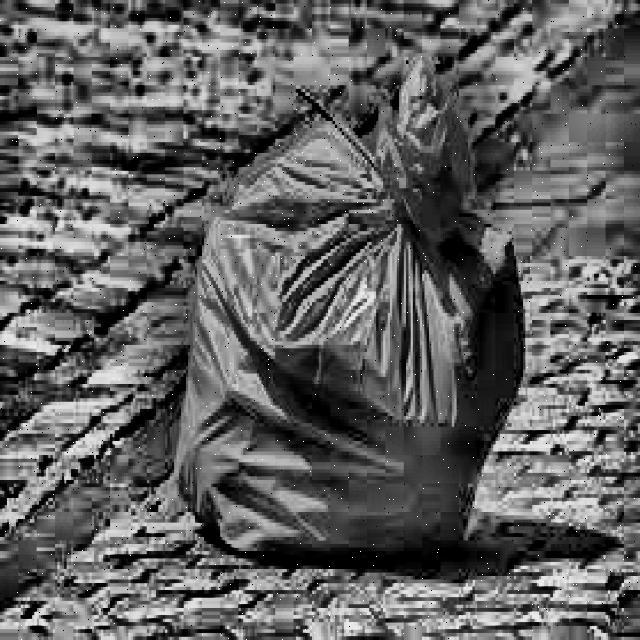Trashbag: (162, 73, 540, 572)
